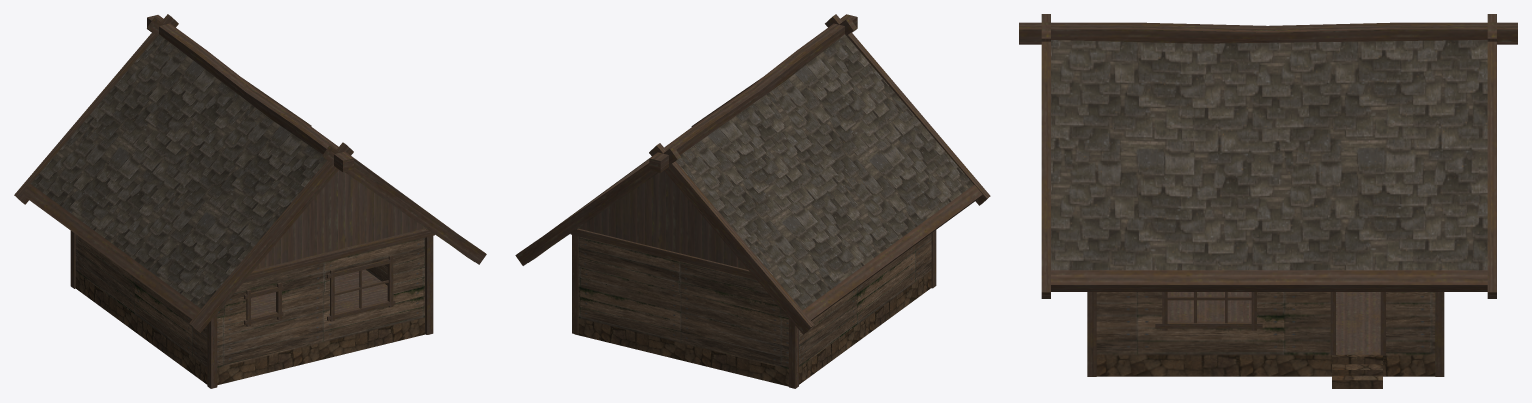
Rendered from wood_house.glb.
3 renders of one model, left to right at view 1: azimuth 30°, elevation 25°; view 2: azimuth 150°, elevation 25°; view 3: azimuth 270°, elevation 25°, orthographic. The views are drawn at different scales.
Parts seen in each view (by area): view 1: WoodHouse; view 2: WoodHouse; view 3: WoodHouse.
Part boxes in pixels (x1,y1,x2,y2): WoodHouse: (14,14,486,388); WoodHouse: (515,14,990,388); WoodHouse: (1019,14,1517,388).
Size of the model in its own units: 4.16 by 3.09 by 4.8.
Materials: 1 (1 with a texture image).
